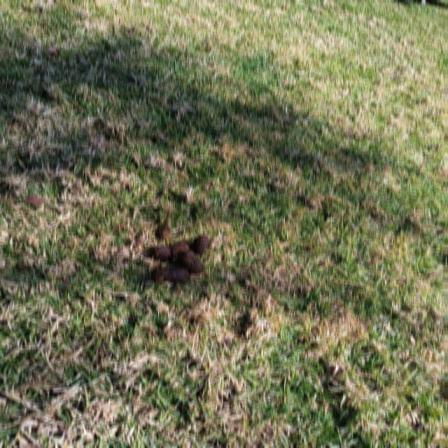dog-poop: (142, 232, 217, 286)
